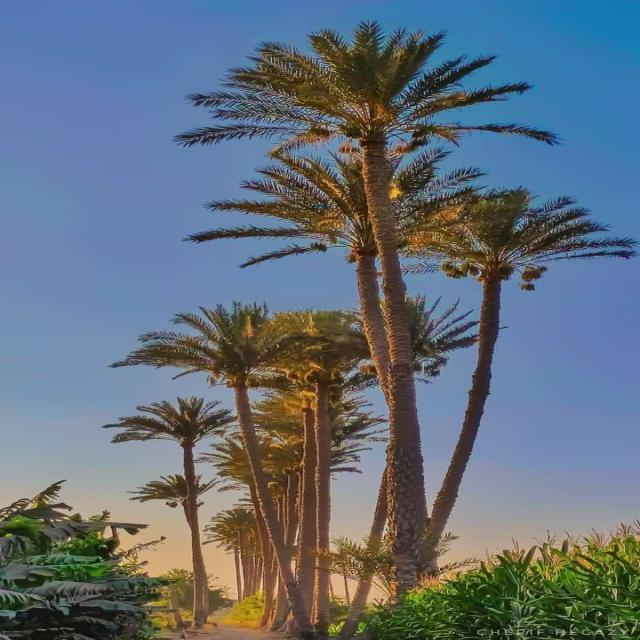Plam-Tree: (193, 292, 376, 576), (274, 79, 466, 335), (398, 180, 575, 428)
